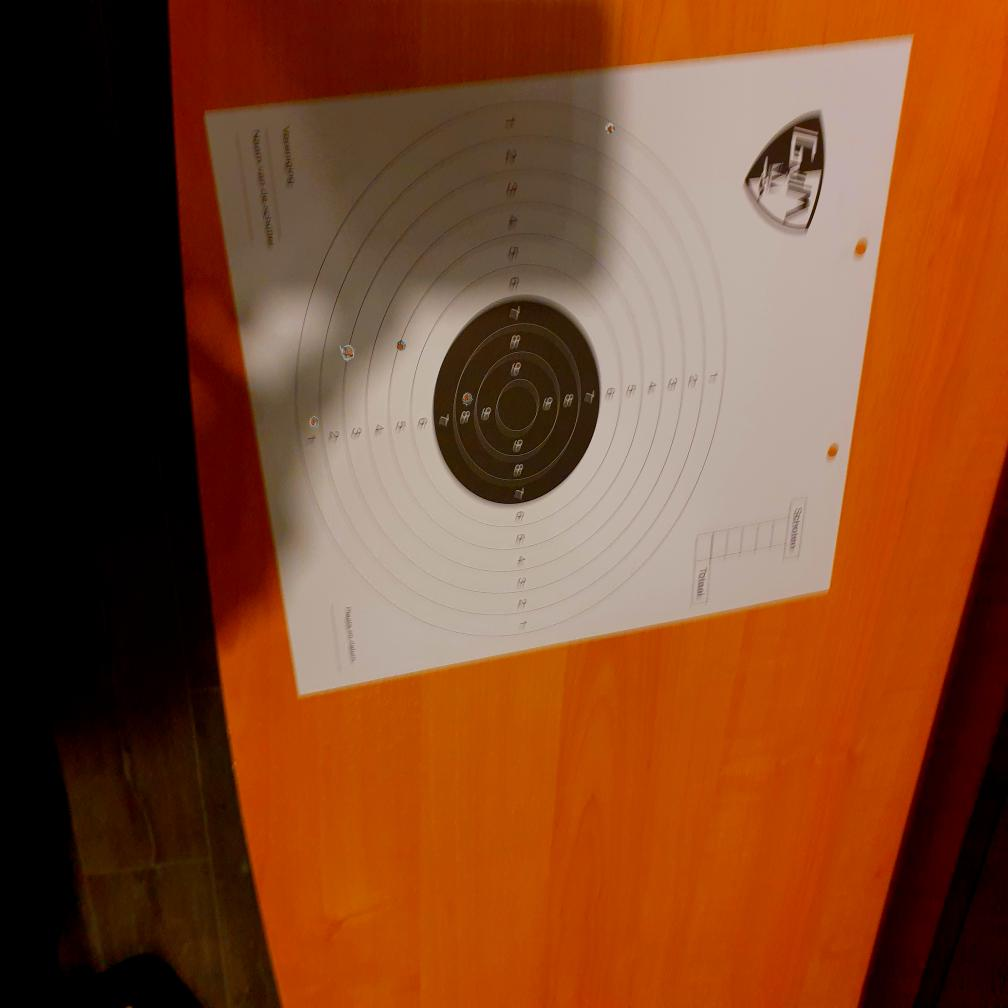1: (308, 414, 320, 431), (604, 120, 615, 136)
3: (339, 344, 355, 362)
5: (395, 339, 407, 353)
8: (462, 390, 474, 406)
Target: (294, 97, 728, 643)
black_contour: (432, 296, 602, 506)
